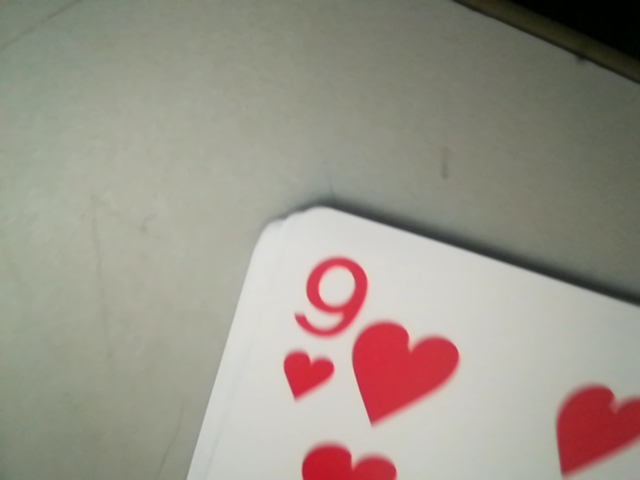hx 9: (281, 250, 368, 405)
